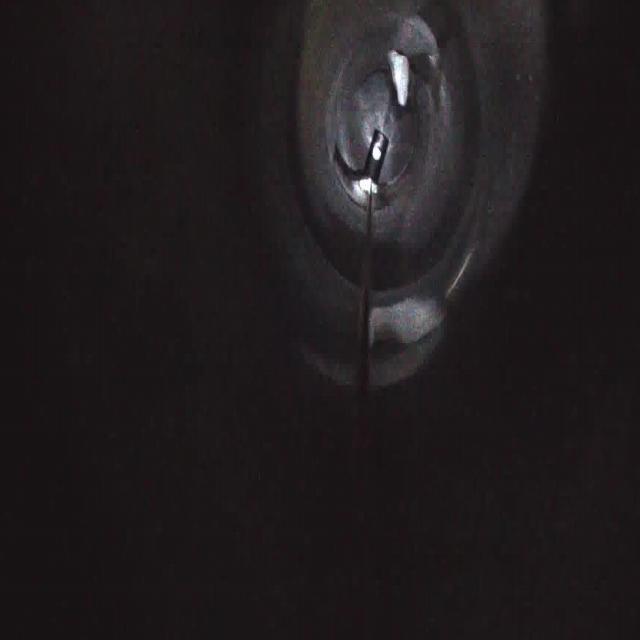impurity: (384, 40, 414, 110)
